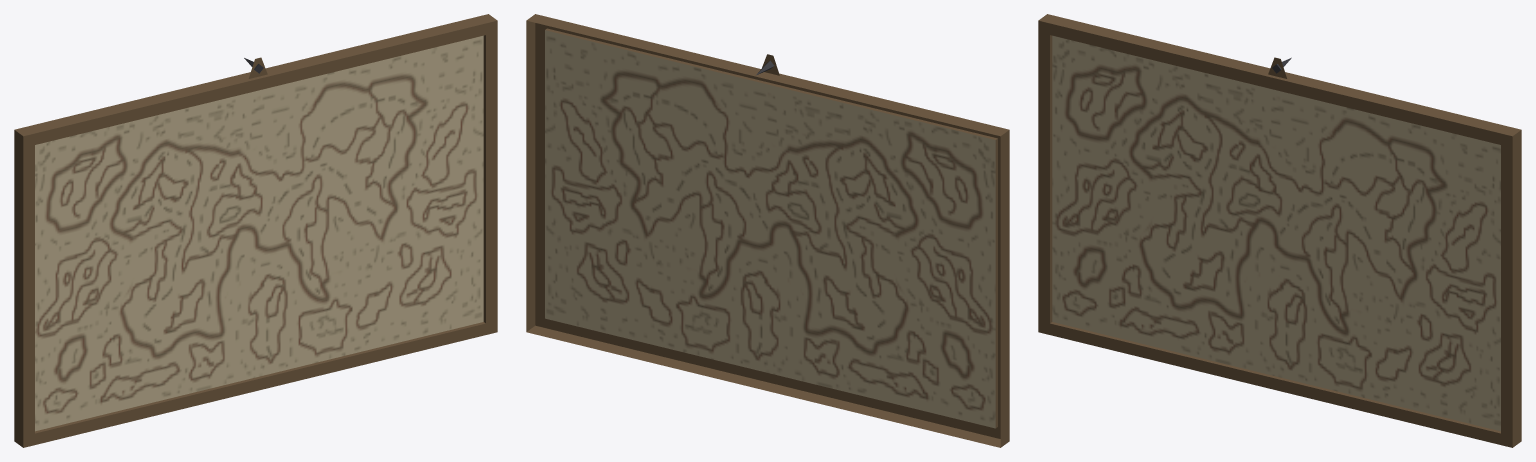
File: Paint_4.fbx
3 renders of one model, left to right at view 1: azimuth 30°, elevation 25°; view 2: azimuth 150°, elevation 25°; view 3: azimuth 330°, elevation 25°, orthographic.
Visible parts, largest first — view 1: polySurface2955; view 2: polySurface2955; view 3: polySurface2955.
Boxes of the visible parts, bbox=[...] form: polySurface2955: bbox=[14, 14, 497, 447]; polySurface2955: bbox=[526, 14, 1009, 447]; polySurface2955: bbox=[1038, 14, 1521, 447].
Bounding box in the file's own units: 182 × 121 × 11.26.
